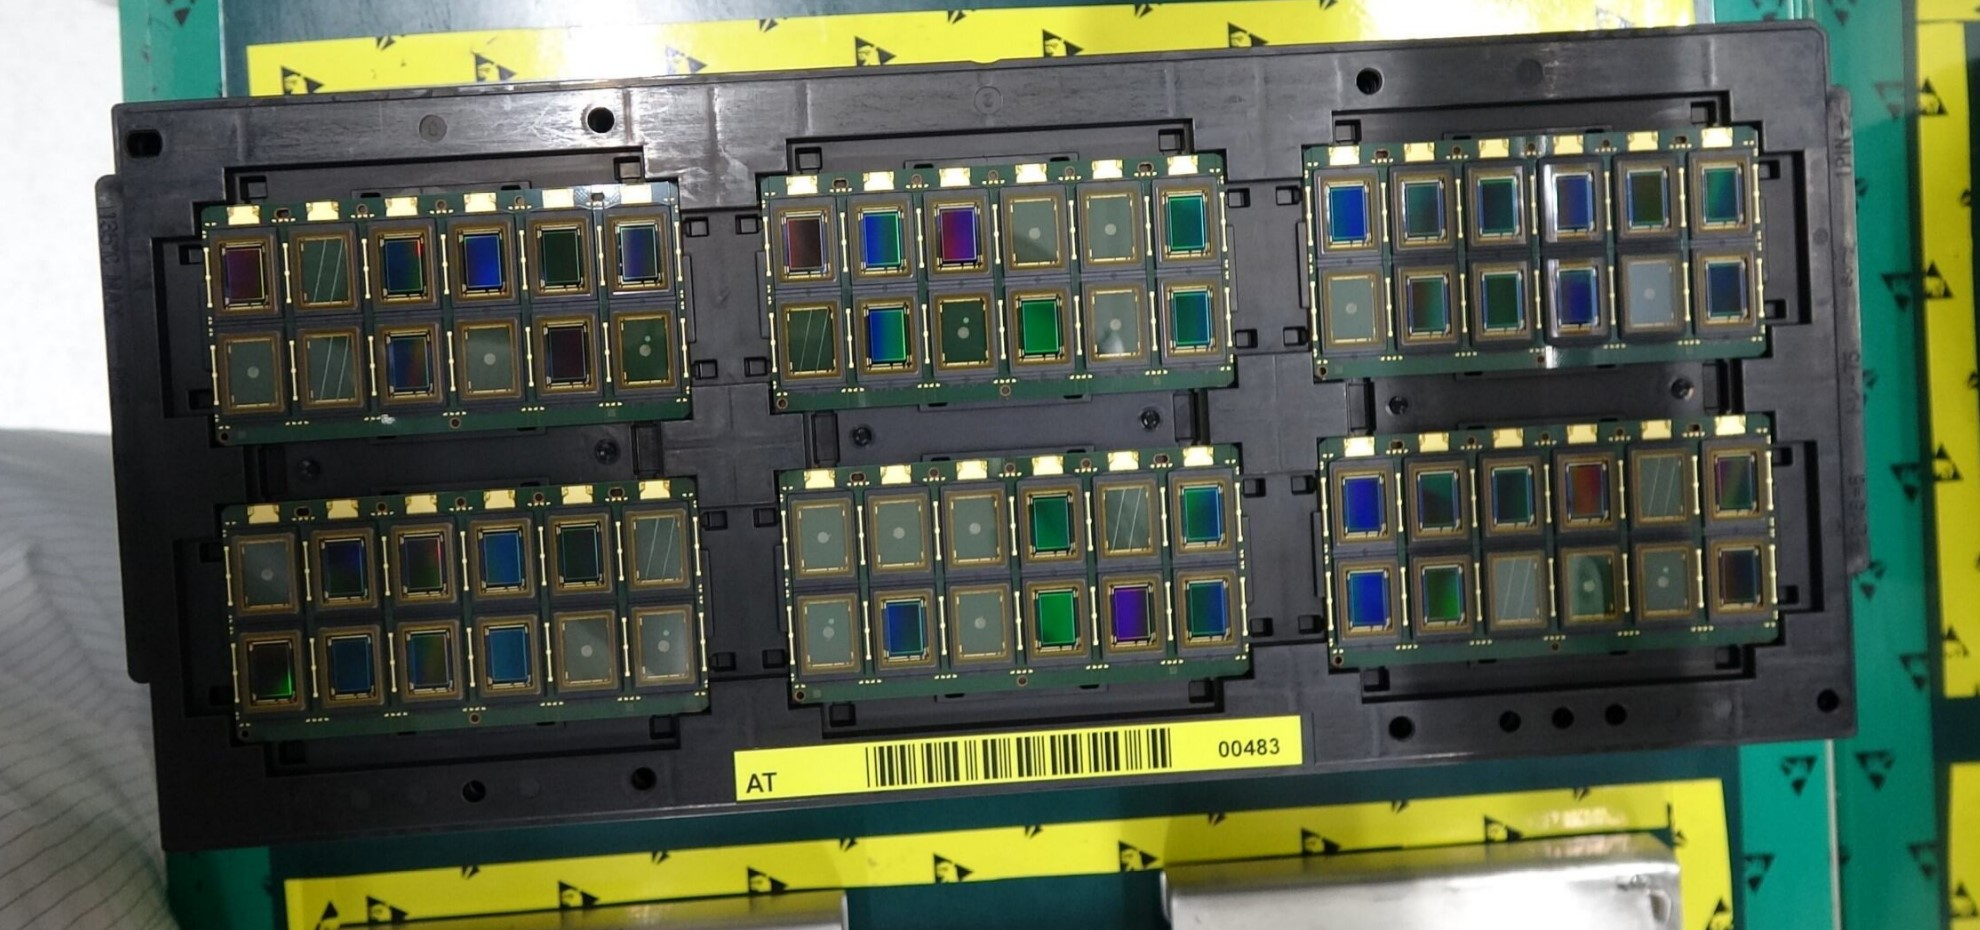Bad_mark_from_BMS_mold: (290, 323, 366, 409), (1092, 475, 1160, 562), (778, 293, 844, 382), (1481, 548, 1551, 632), (624, 509, 692, 590), (292, 226, 355, 313), (1626, 446, 1693, 526)
Bad_mark_from_Maker: (1317, 262, 1388, 356), (788, 492, 859, 584), (547, 607, 621, 694), (945, 579, 1017, 668), (1618, 248, 1688, 337), (216, 326, 285, 417), (455, 316, 525, 404), (941, 483, 1009, 572), (630, 601, 698, 691), (610, 308, 681, 394), (1081, 278, 1150, 365), (794, 591, 864, 679), (864, 490, 933, 576), (1075, 183, 1145, 267), (1633, 538, 1701, 624), (232, 533, 299, 620), (1003, 190, 1070, 274)
